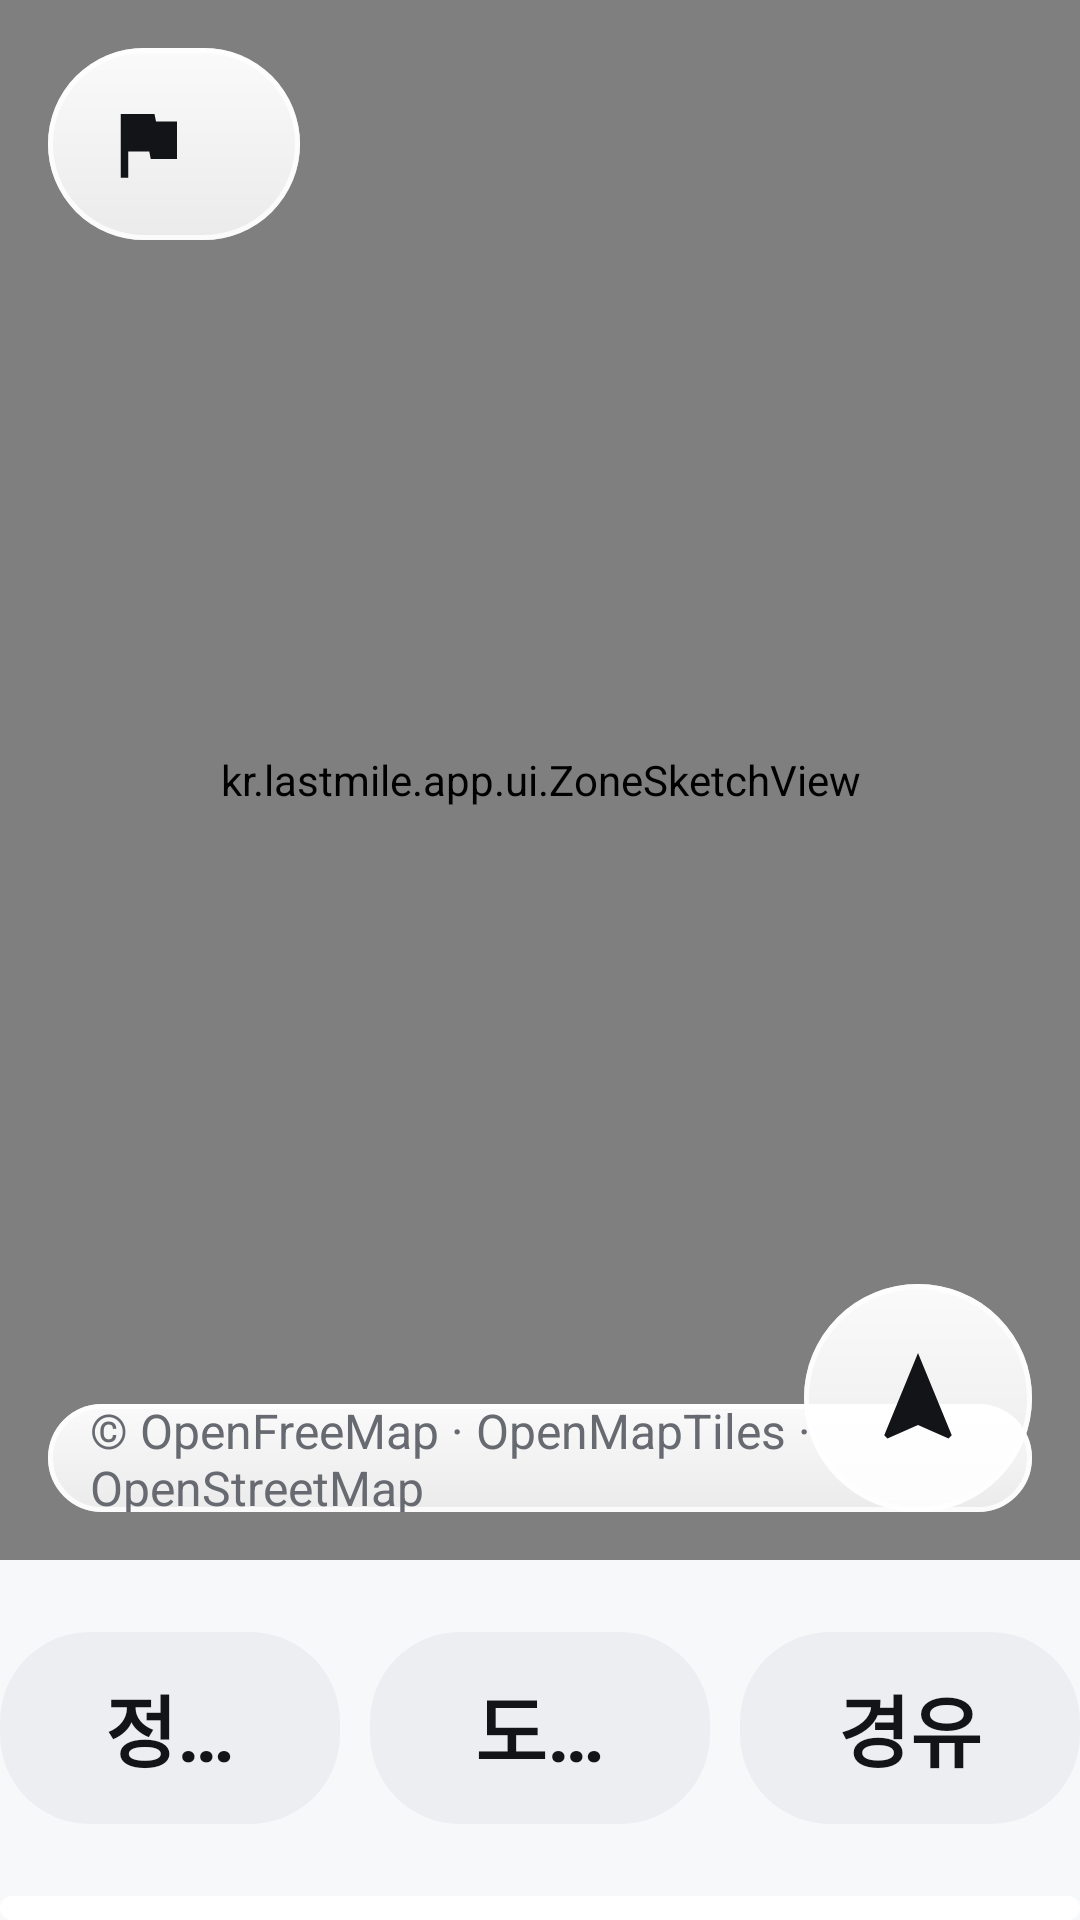

Point at icon controls on the screen. Image size 1080*1920, points as [x,y].
flag: [148,146]
현재 위치로: [918,1398]
